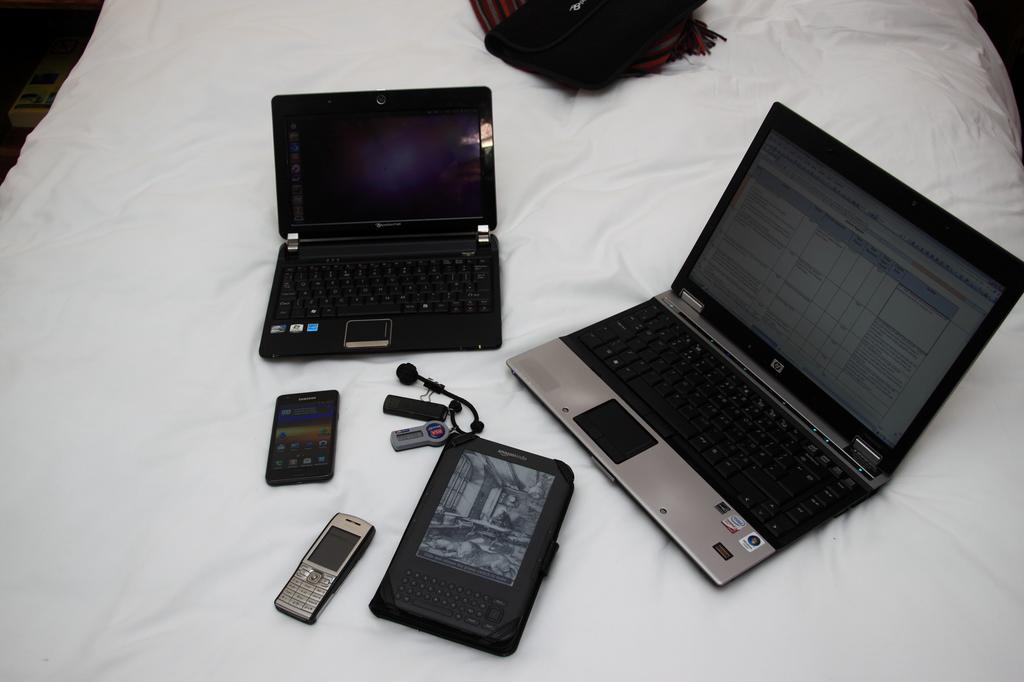Laptop: (515, 100, 1002, 585), (256, 90, 504, 356)
